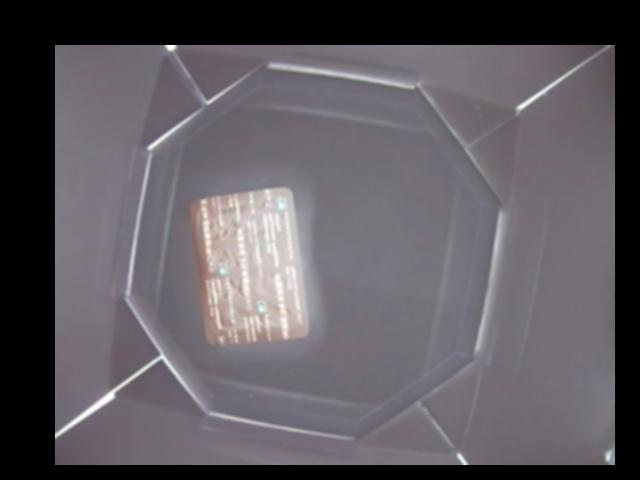Medicine: (190, 185, 311, 347)
